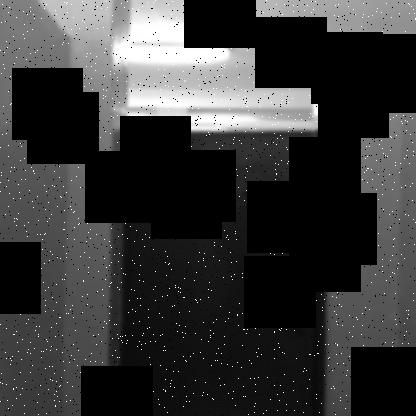Porte: (120, 127, 328, 416)
